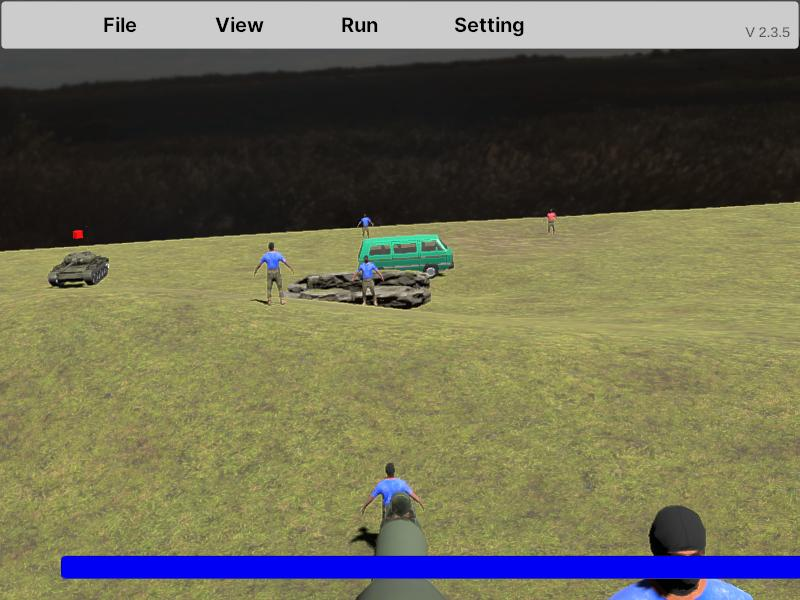Human: (255, 241, 293, 306)
Tank: (48, 250, 110, 288)
car: (358, 235, 453, 281)
